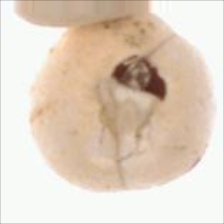L3: (97, 53, 168, 141)
L4: (28, 19, 216, 193)
